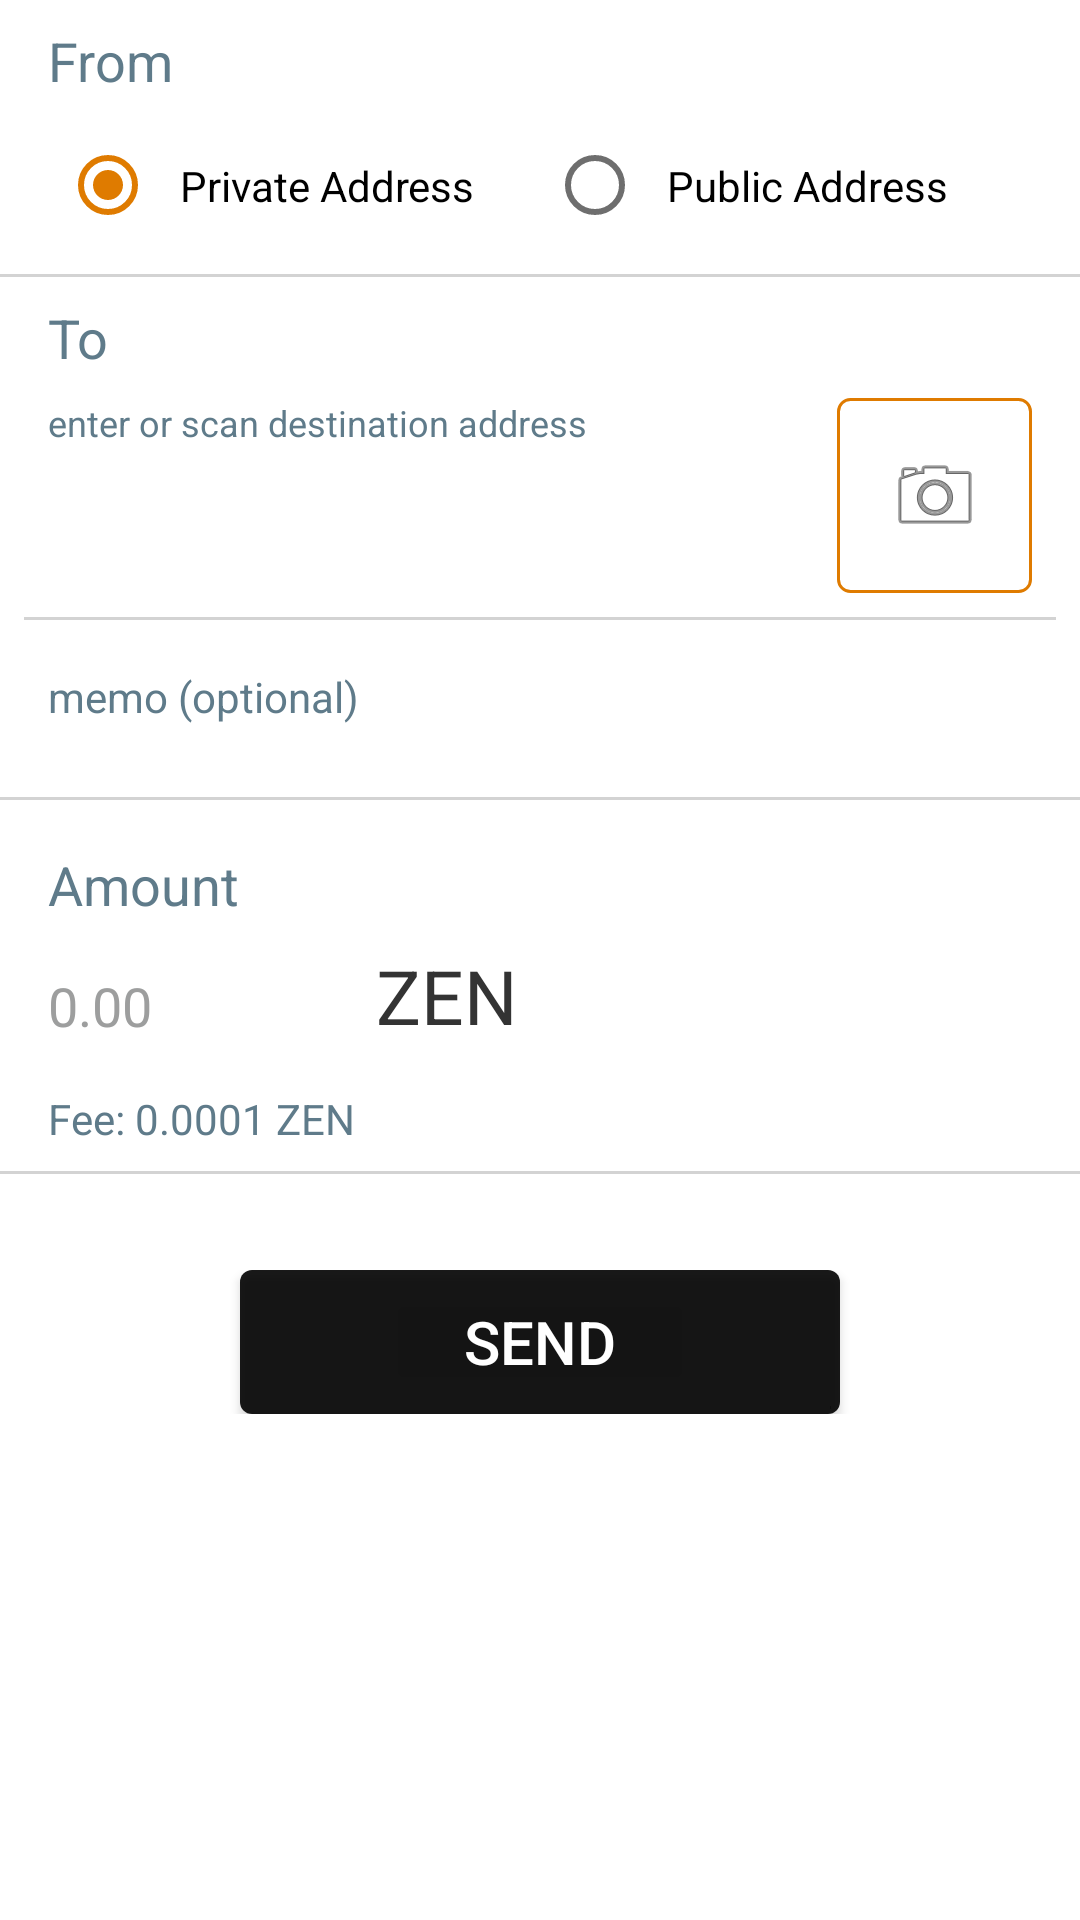

Point at icon controls on the screen. Image size 1080x1920, points as (x,y).
camera: (934,495)
